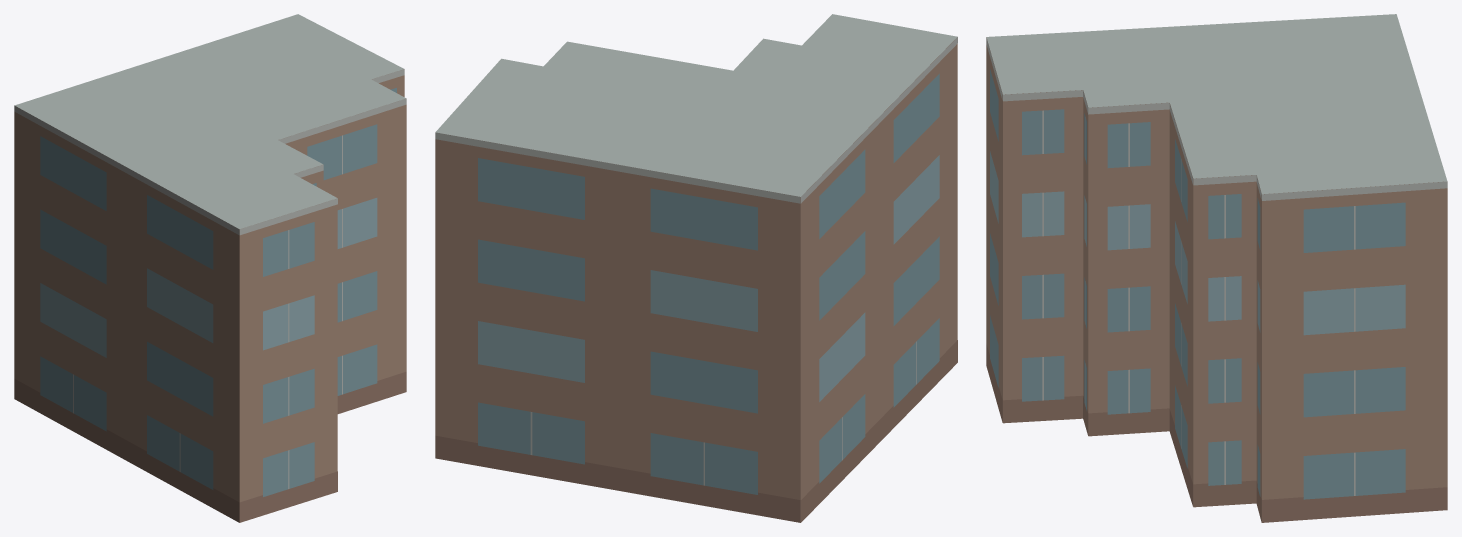
The model's file is survey-upis-32526509.glb.
The picture shows the model from 3 angles, left to right: view 1: azimuth 30°, elevation 25°; view 2: azimuth 150°, elevation 25°; view 3: azimuth 270°, elevation 25°; orthographic projection. The views are drawn at different scales.
Parts seen in each view (by area): view 1: survey-upis-32526509.tmp; view 2: survey-upis-32526509.tmp; view 3: survey-upis-32526509.tmp.
Part boxes in pixels (x1,y1,x2,y2): survey-upis-32526509.tmp: (14, 14, 406, 522); survey-upis-32526509.tmp: (435, 14, 957, 522); survey-upis-32526509.tmp: (986, 14, 1447, 522).
Size of the model in its own units: 13.77 by 11.7 by 14.89.
